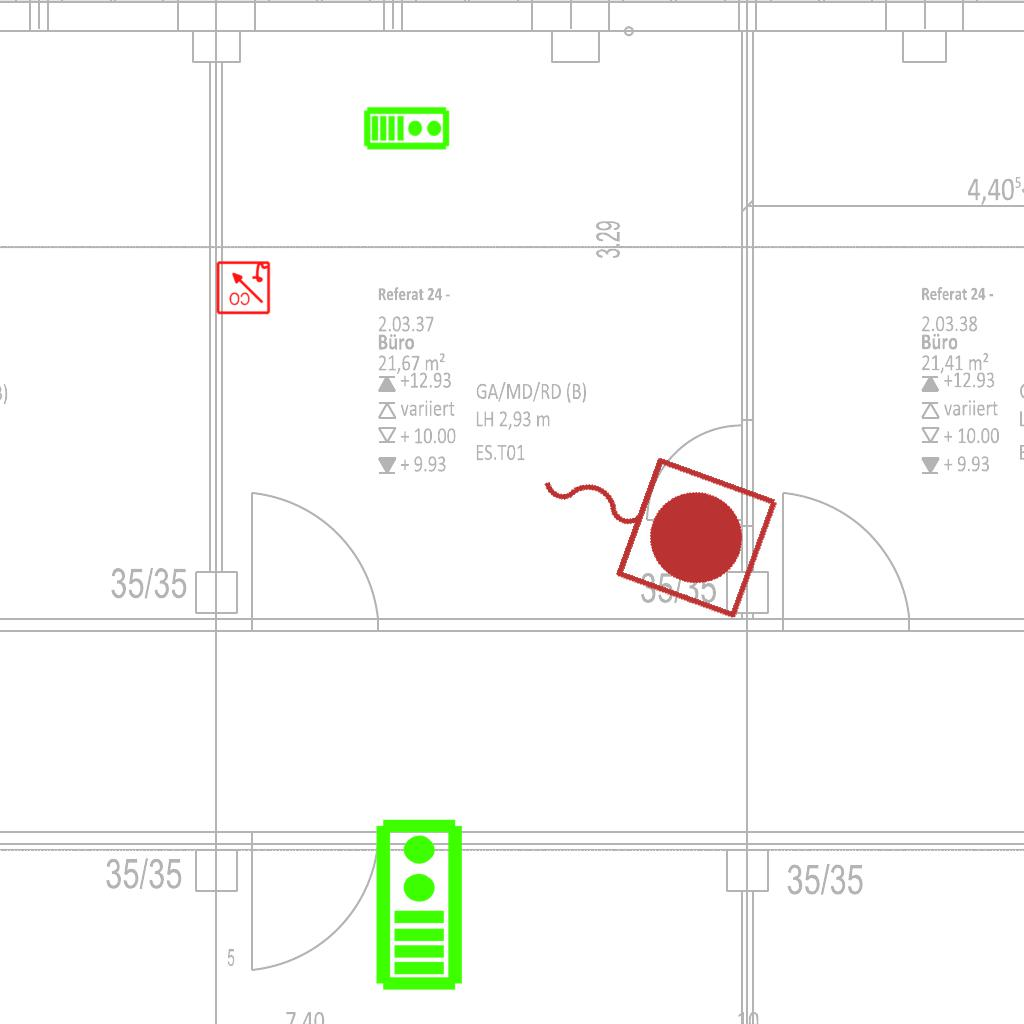Gegensprechanlage_mit_Video: (370, 816, 465, 992), (363, 104, 451, 151)
ROA_Rauchmelder_optisch_mit_Signalgeber_(Sockelsirene): (215, 259, 271, 315)
Zugtaster: (510, 409, 790, 629)
